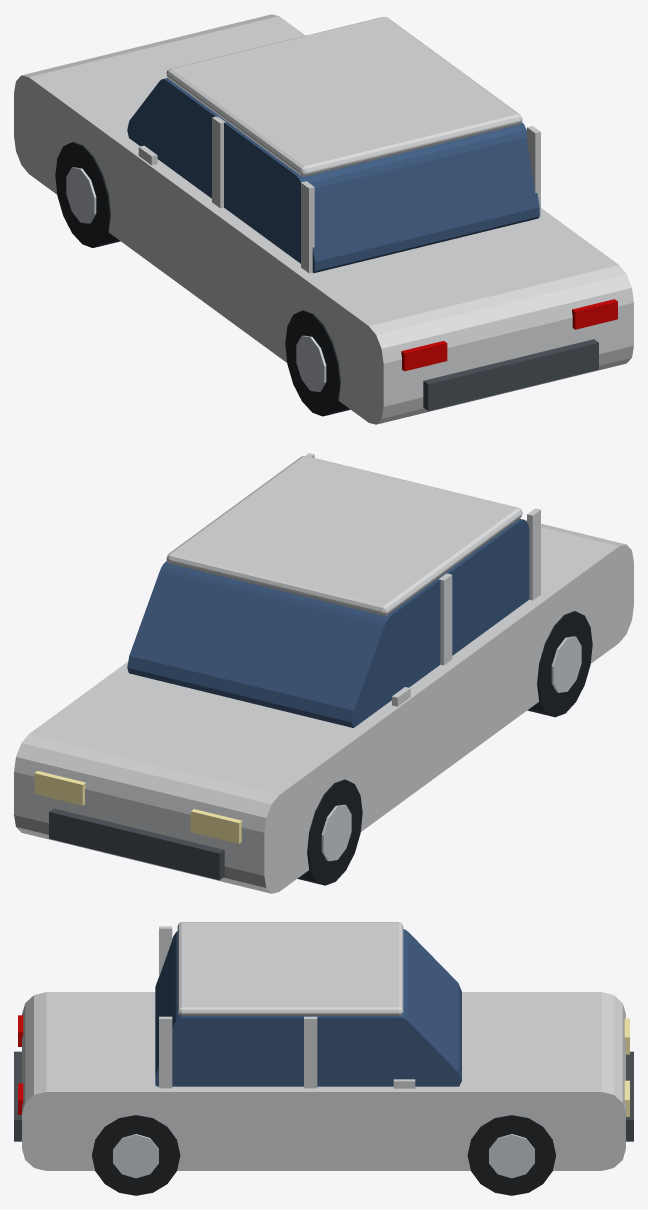
File: st_car_white.glb
3 views of the same model, one above another, from view 1: azimuth 30°, elevation 25°; view 2: azimuth 150°, elevation 25°; view 3: azimuth 270°, elevation 25° (orthographic). The views are drawn at different scales.
Parts seen in each view (by area): view 1: prism, prism.001, Cube, Cube.012, Cylinder, Cylinder.002, Cylinder.003, Cylinder.001, Cube.002, Cube.001, Cube.006, Cube.009 (+1 smaller); view 2: prism, prism.001, Cube, Cube.011, Cylinder, Cylinder.002, Cylinder.001, Cylinder.003, Cube.005, Cube.008, Cube.001, Cube.002; view 3: prism, prism.001, Cube, Cylinder.004, Cylinder.006, Cylinder.005, Cylinder.007, Cube.003, Cube.004, Cube.012, Cube.011, Cube.002.
Boxes of the visible parts, x1,y1,x2,y2 form: prism: [14, 14, 633, 424]; prism.001: [127, 78, 539, 272]; Cube: [166, 17, 522, 176]; Cube.012: [423, 339, 598, 410]; Cylinder: [285, 310, 350, 416]; Cylinder.002: [55, 142, 120, 247]; Cylinder.003: [66, 167, 96, 223]; Cylinder.001: [296, 335, 326, 391]; Cube.002: [301, 181, 314, 273]; Cube.001: [212, 116, 225, 208]; Cube.006: [401, 341, 447, 371]; Cube.009: [572, 299, 617, 329]; prism: [14, 518, 633, 893]; prism.001: [127, 519, 529, 727]; Cube: [166, 456, 522, 615]; Cube.011: [49, 808, 224, 880]; Cylinder: [527, 611, 592, 717]; Cylinder.002: [297, 779, 362, 885]; Cylinder.001: [551, 636, 581, 692]; Cylinder.003: [321, 804, 351, 861]; Cube.005: [190, 809, 242, 843]; Cube.008: [34, 771, 85, 805]; Cube.001: [439, 573, 452, 665]; Cube.002: [527, 508, 540, 600]; prism: [22, 992, 625, 1170]; prism.001: [155, 929, 461, 1086]; Cube: [177, 922, 403, 1015]; Cylinder.004: [92, 1115, 180, 1195]; Cylinder.006: [467, 1115, 555, 1195]; Cylinder.005: [113, 1134, 158, 1178]; Cylinder.007: [489, 1134, 534, 1178]; Cube.003: [304, 1016, 317, 1088]; Cube.004: [159, 1016, 172, 1088]; Cube.012: [14, 1051, 21, 1141]; Cube.011: [626, 1051, 633, 1141]; Cube.002: [159, 926, 172, 976].
Size of the model in its own units: 182 by 149 by 462.
